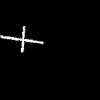single_crochet: (1, 26, 42, 51)
